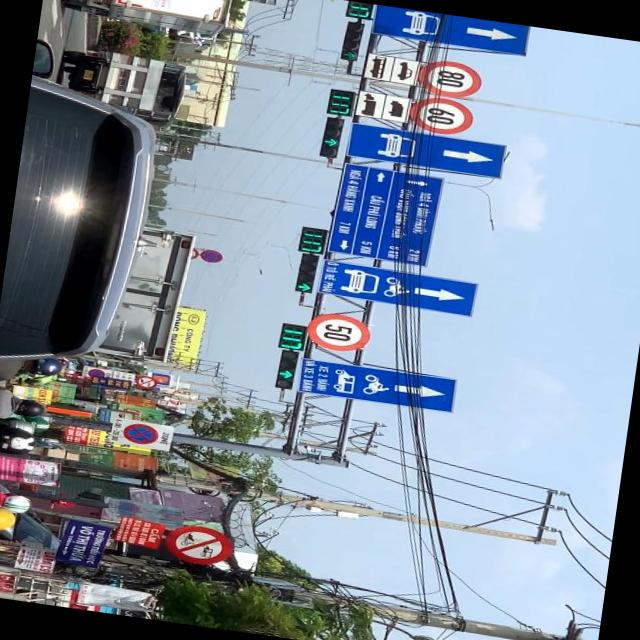P-127: (305, 313, 371, 357)
